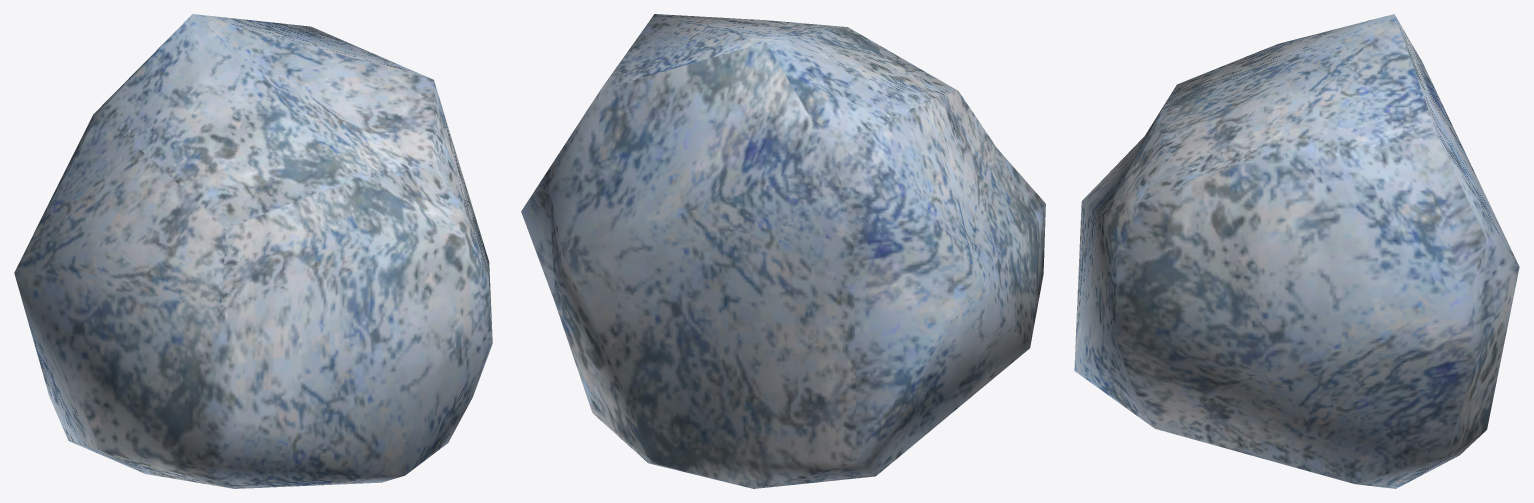
The model's file is asteroid_ice_medium_s01_l3.fbx.
The picture shows the model from 3 angles, left to right: view 1: azimuth 30°, elevation 25°; view 2: azimuth 150°, elevation 25°; view 3: azimuth 270°, elevation 25°; orthographic projection. The views are drawn at different scales.
Visible parts, largest first — view 1: mesh_node; view 2: mesh_node; view 3: mesh_node.
Part boxes in pixels (x1,y1,x2,y2): mesh_node: [14, 14, 492, 488]; mesh_node: [521, 14, 1045, 488]; mesh_node: [1074, 14, 1519, 488].
Size of the model in its own units: 66.77 by 66.31 by 63.19.
